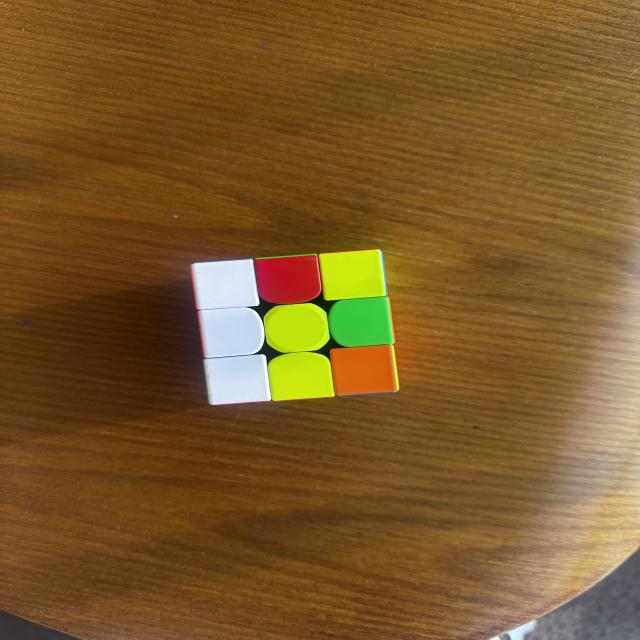sticker: (264, 351, 338, 404), (189, 262, 260, 316), (254, 256, 332, 304), (200, 355, 274, 404), (326, 346, 398, 396), (326, 300, 404, 346), (320, 250, 390, 300), (193, 308, 266, 354), (264, 304, 331, 351)
